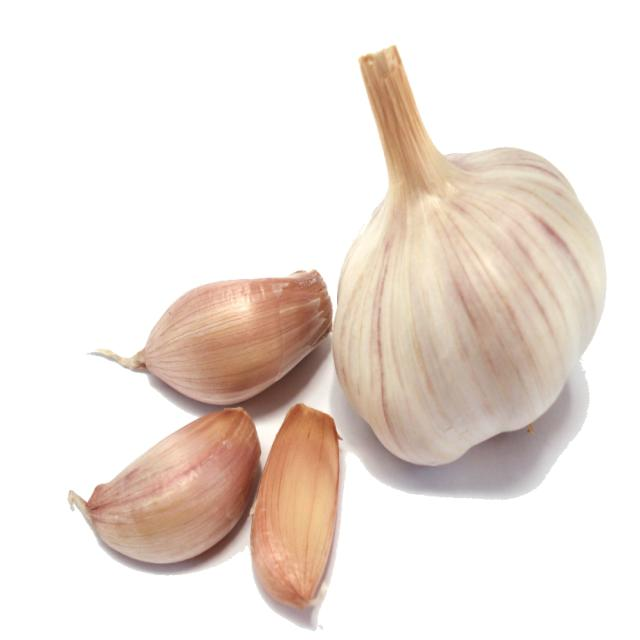garlic: (332, 46, 605, 464), (95, 269, 331, 403), (68, 407, 259, 561), (250, 403, 338, 607)
